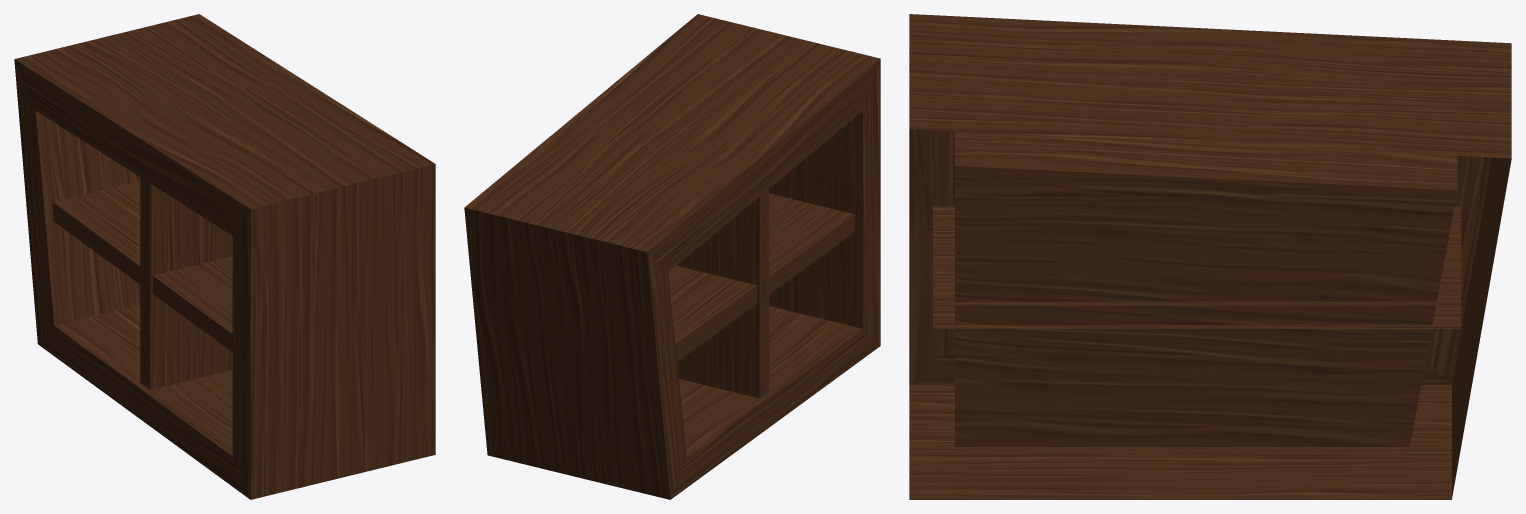
The model's file is KitchenCabinet_Main.fbx.
3 views of the same model, side by side, from view 1: azimuth 30°, elevation 25°; view 2: azimuth 150°, elevation 25°; view 3: azimuth 270°, elevation 25° (orthographic). The views are drawn at different scales.
Parts seen in each view (by area): view 1: Midnight_Antics_Kitchen_V1.004; view 2: Midnight_Antics_Kitchen_V1.004; view 3: Midnight_Antics_Kitchen_V1.004.
Part boxes in pixels (x1=…): Midnight_Antics_Kitchen_V1.004: x1=14, y1=14, x2=435, y2=499; Midnight_Antics_Kitchen_V1.004: x1=464, y1=14, x2=880, y2=499; Midnight_Antics_Kitchen_V1.004: x1=909, y1=14, x2=1511, y2=499.
Bounding box in the file's own units: 6521 × 9796 × 14426.
